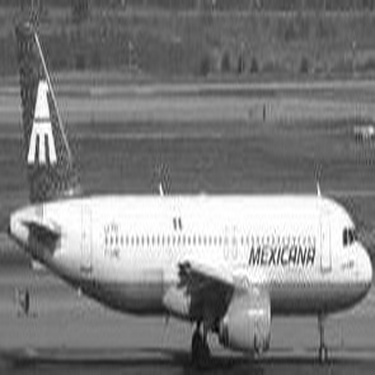airplane: (13, 19, 364, 354)
